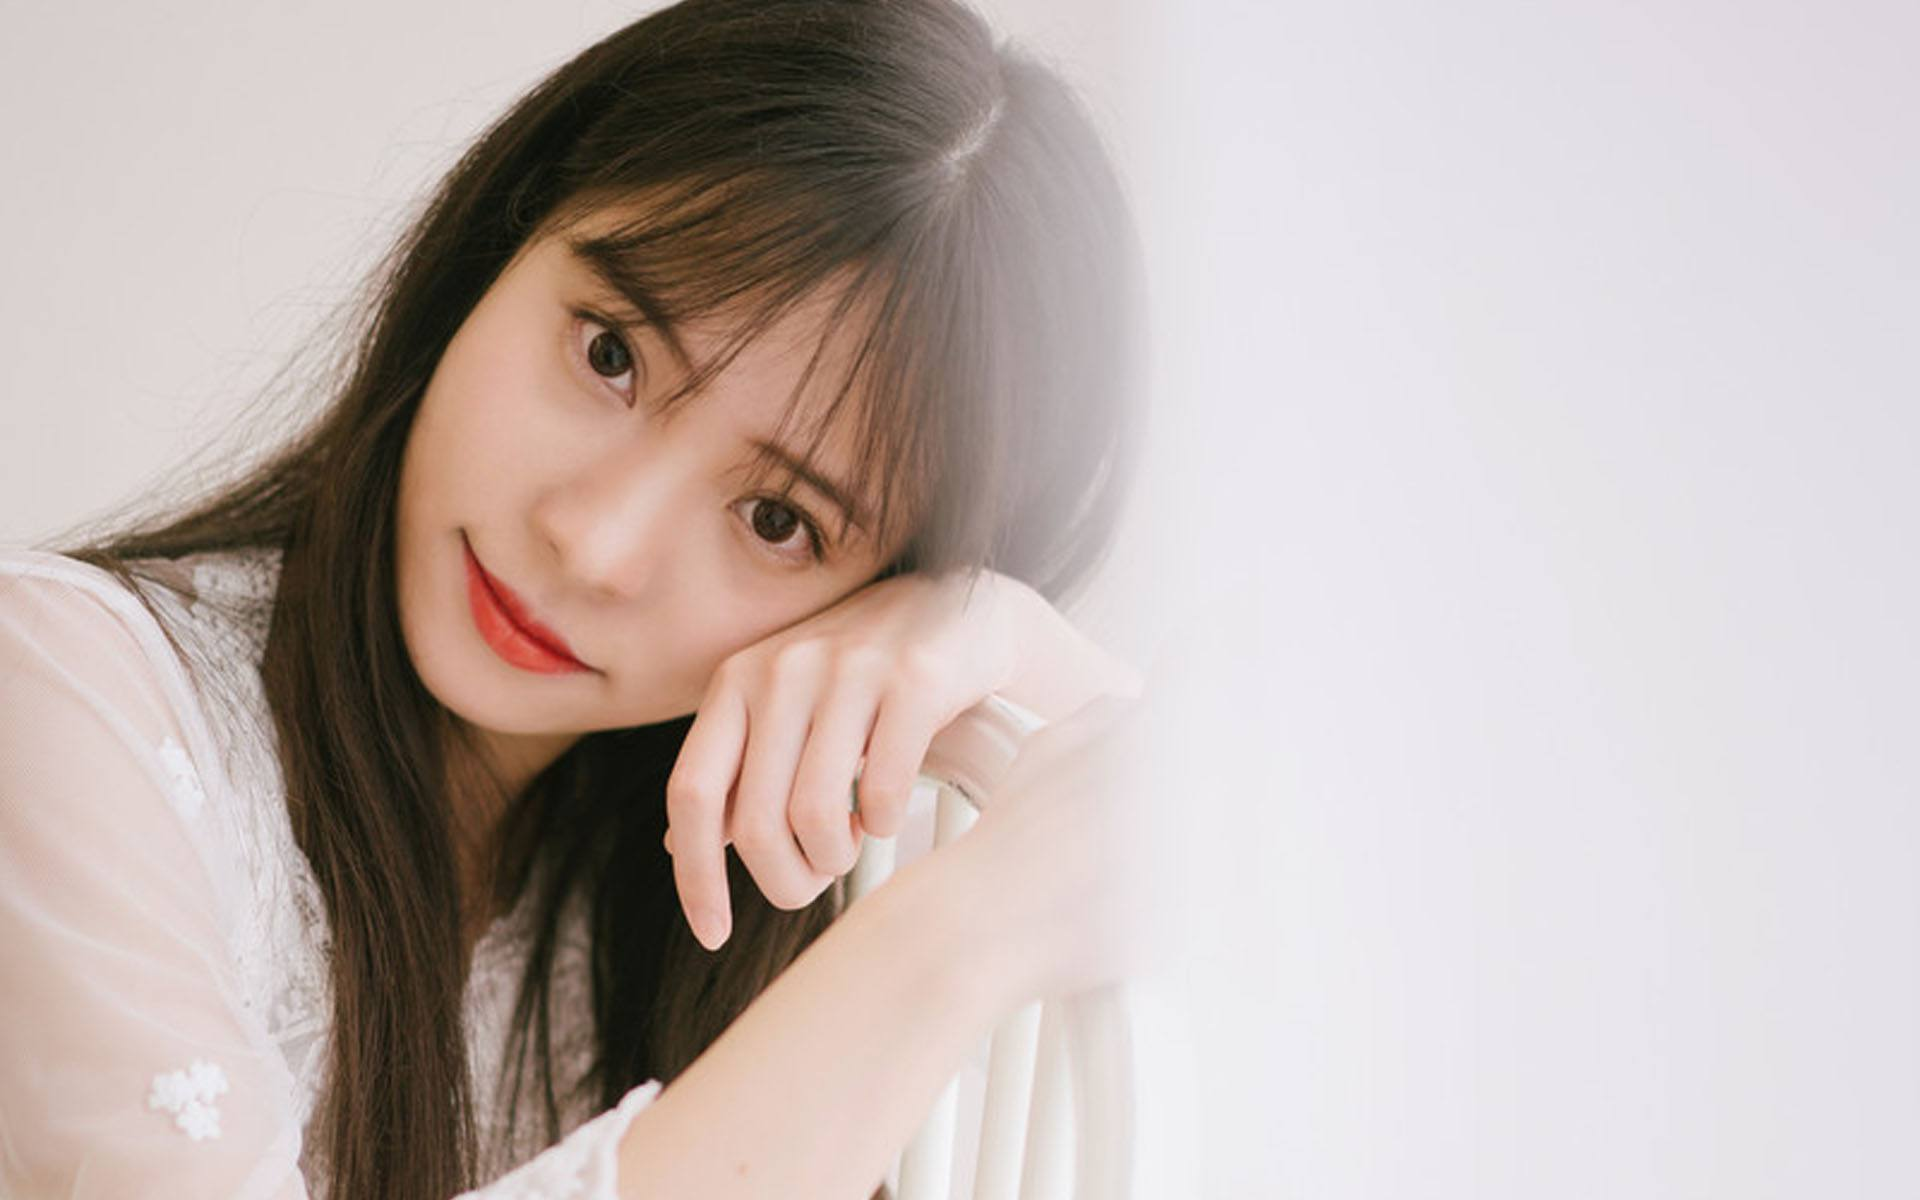person: (197, 38, 1250, 1129)
